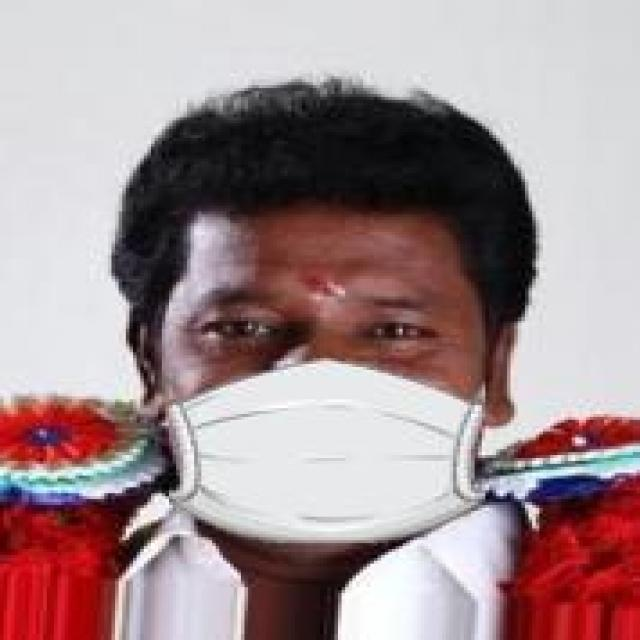mask: (93, 106, 564, 552)
